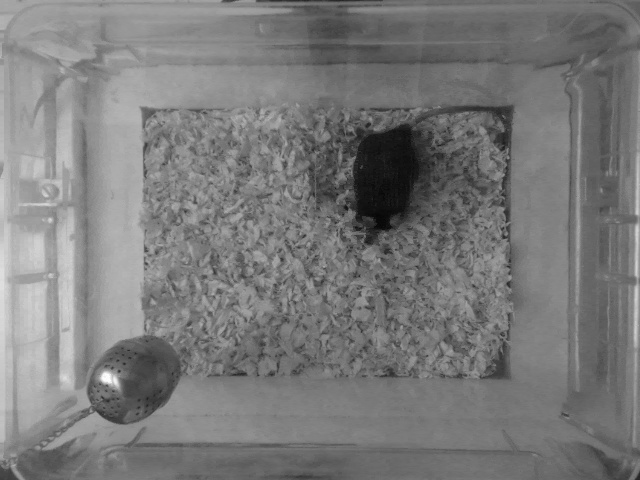mice: (349, 103, 518, 235)
